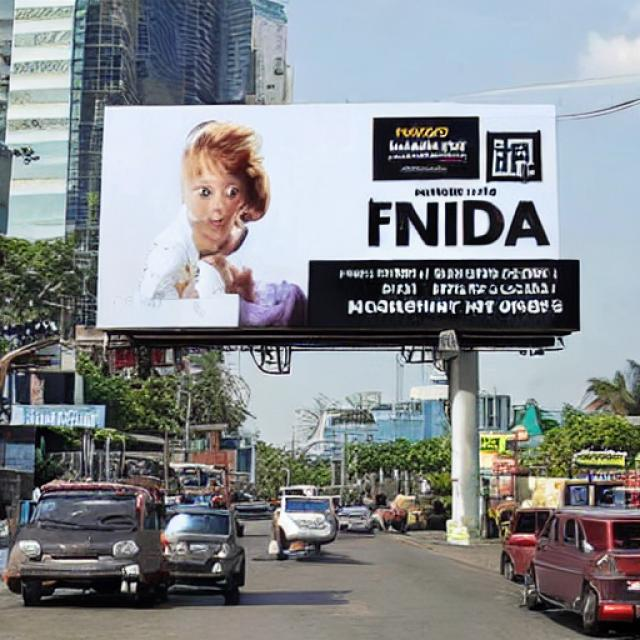Billboard: (99, 102, 565, 350)
